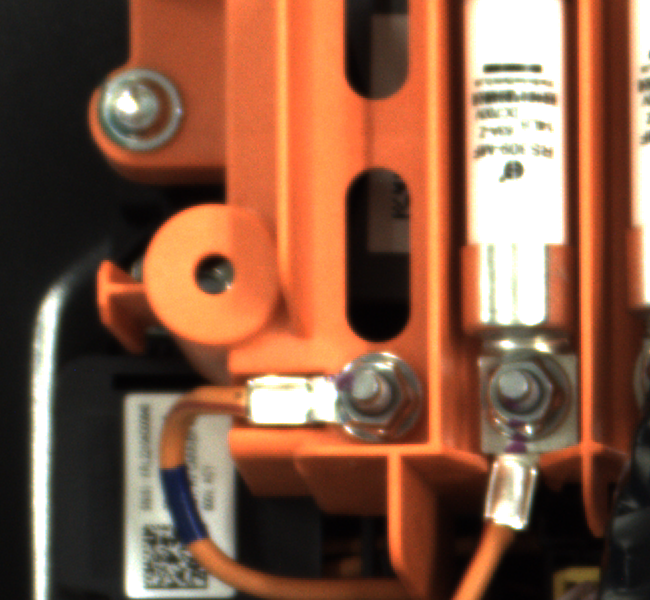screw_m: (91, 61, 191, 152)
screw_s: (339, 352, 445, 438), (476, 354, 569, 443)
